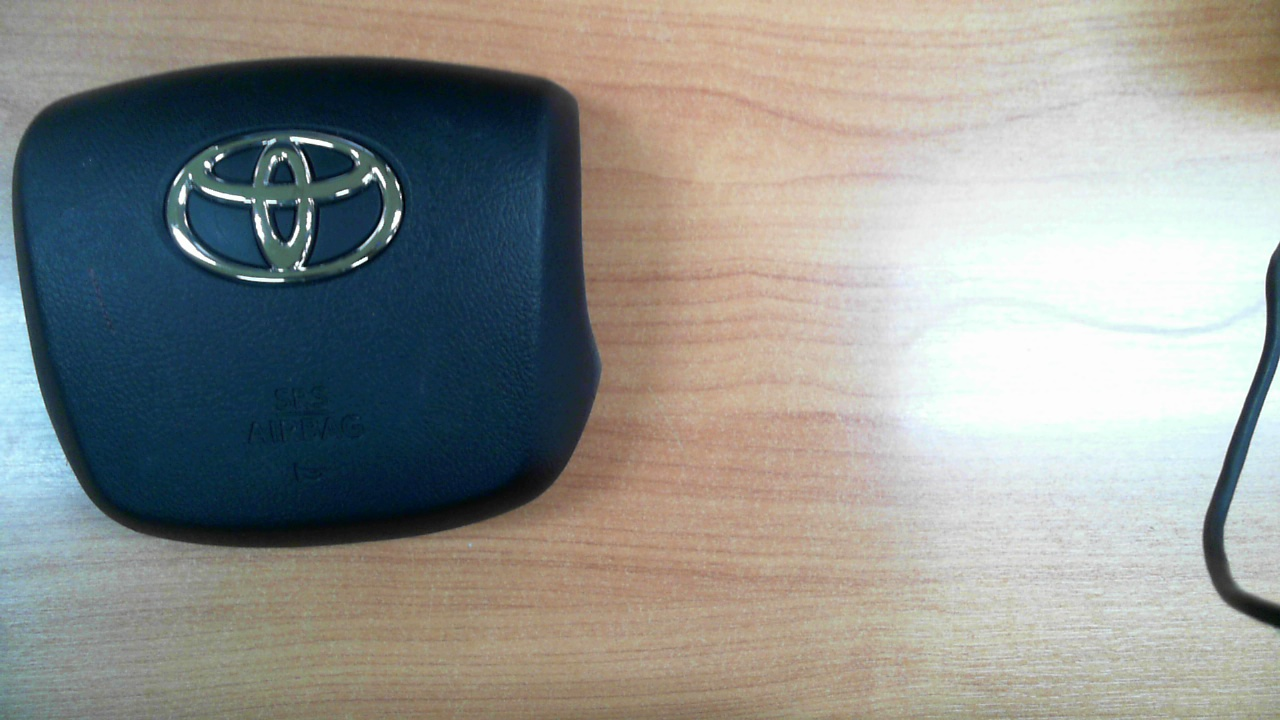Airbag: (12, 61, 601, 549)
Toyota: (166, 130, 403, 283)
